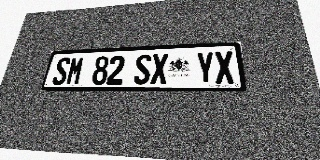2: (106, 55, 125, 85)
8: (91, 56, 110, 85)
M: (65, 57, 85, 85)
S: (133, 54, 152, 84), (51, 57, 71, 85)
X: (214, 51, 235, 84), (150, 53, 168, 84)
Y: (196, 51, 215, 84)
